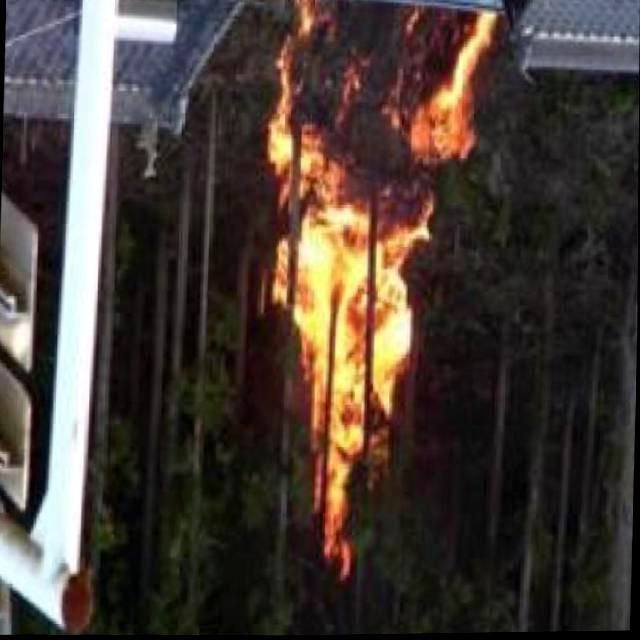fire: (266, 1, 482, 576)
